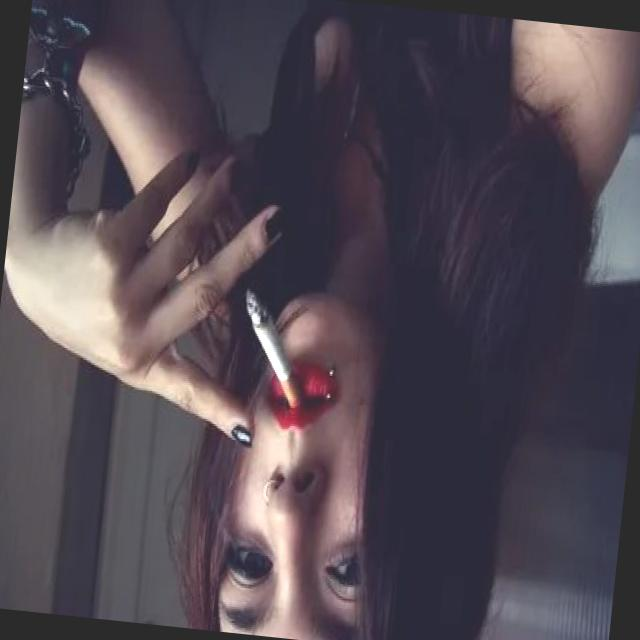cigarette: (232, 286, 318, 413)
